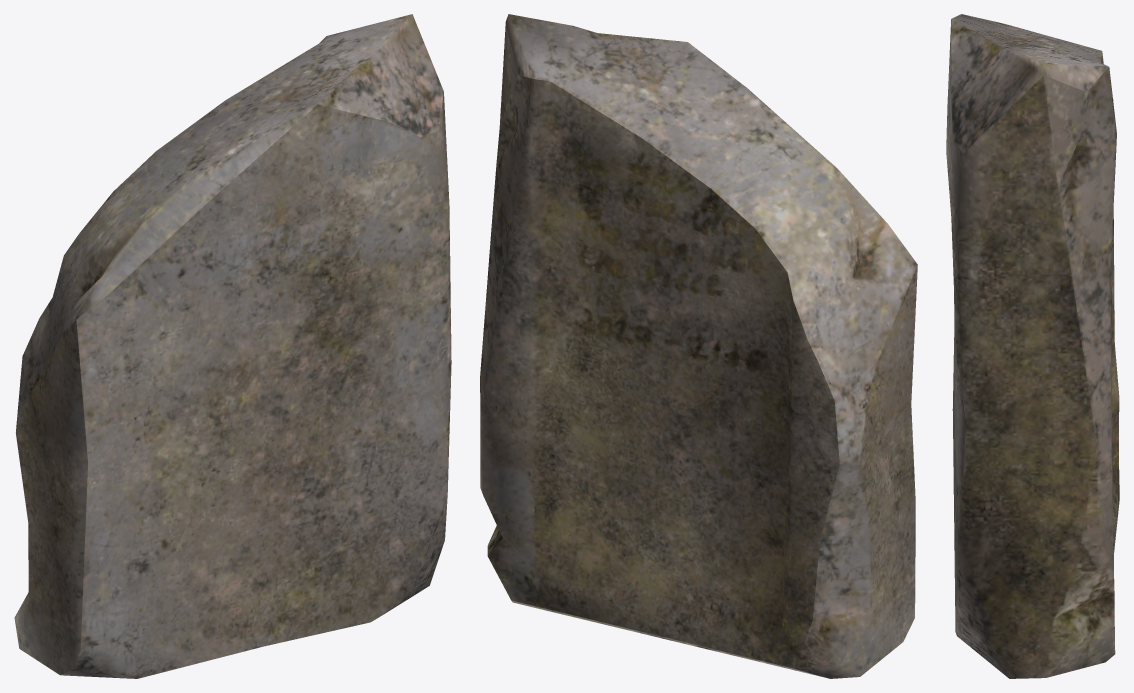
The model's file is SM_TombStone04.FBX.
3 renders of one model, left to right at view 1: azimuth 30°, elevation 25°; view 2: azimuth 150°, elevation 25°; view 3: azimuth 270°, elevation 25°, orthographic. The views are drawn at different scales.
Visible parts, largest first — view 1: SM_TombStone04; view 2: SM_TombStone04; view 3: SM_TombStone04.
Part boxes in pixels (box(x1,y1,x2,y2)): SM_TombStone04: box(14, 14, 451, 678); SM_TombStone04: box(480, 14, 917, 678); SM_TombStone04: box(946, 14, 1119, 678).
Bounding box in the file's own units: 100 × 36.29 × 142.
